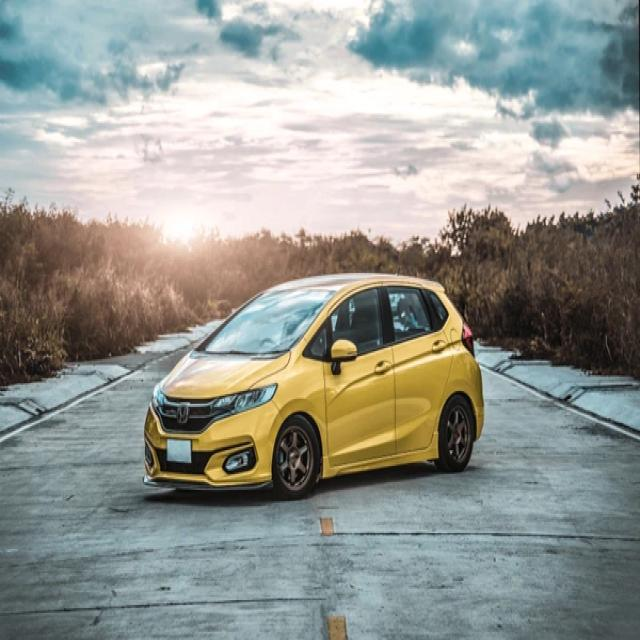honda: (177, 402, 190, 428)
